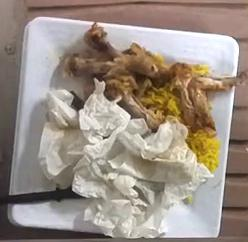rice: (186, 127, 220, 172), (140, 87, 181, 120)
